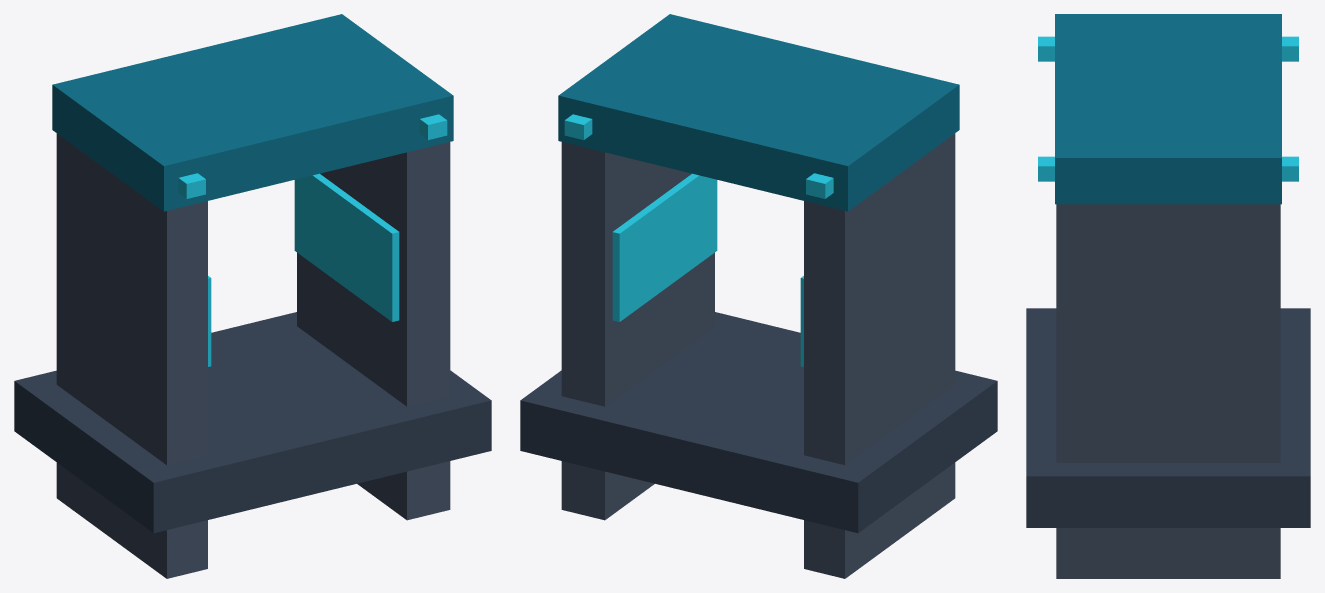
File: scanner.glb
3 views of the same model, side by side, from view 1: azimuth 30°, elevation 25°; view 2: azimuth 150°, elevation 25°; view 3: azimuth 270°, elevation 25° (orthographic).
Parts seen in each view (by area): view 1: Scanner_Base, Scanner_Top, Scanner_Left, Scanner_Right, Cube.005, Cube.002; view 2: Scanner_Base, Scanner_Top, Scanner_Left, Scanner_Right, Cube.005, Cube.001; view 3: Scanner_Right, Scanner_Top, Scanner_Base, Cube, Cube.001, Cube.002, Cube.003.
Part boxes in pixels (<box>): Scanner_Base: <box>14,312,491,533</box>; Scanner_Top: <box>52,14,453,211</box>; Scanner_Left: <box>56,133,207,578</box>; Scanner_Right: <box>297,142,450,520</box>; Cube.005: <box>294,173,399,321</box>; Cube.002: <box>419,114,447,139</box>; Scanner_Base: <box>520,312,997,533</box>; Scanner_Top: <box>558,14,959,211</box>; Scanner_Left: <box>804,133,955,578</box>; Scanner_Right: <box>561,142,714,520</box>; Cube.005: <box>612,173,717,321</box>; Cube.001: <box>564,114,592,139</box>; Scanner_Right: <box>1056,204,1280,578</box>; Scanner_Top: <box>1055,14,1281,204</box>; Scanner_Base: <box>1026,308,1310,527</box>; Cube: <box>1282,36,1298,61</box>; Cube.001: <box>1282,156,1298,181</box>; Cube.002: <box>1038,156,1054,181</box>; Cube.003: <box>1038,36,1054,61</box>.
Size of the model in its own units: 1.4 by 1.64 by 1.
